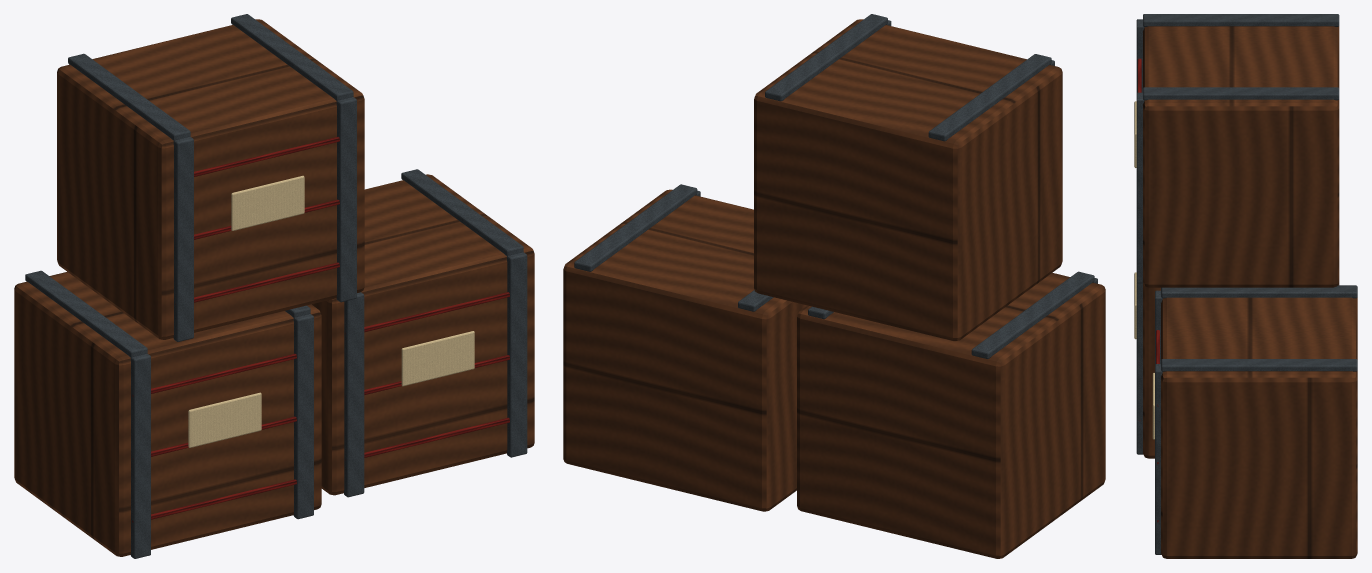
The model's file is supply_crates.glb.
3 views of the same model, side by side, from view 1: azimuth 30°, elevation 25°; view 2: azimuth 150°, elevation 25°; view 3: azimuth 270°, elevation 25° (orthographic). The views are drawn at different scales.
Visible parts, largest first — view 1: supply_crates_Walnut, supply_crates_Iron, supply_crates_Paper, supply_crates_Lacquer; view 2: supply_crates_Walnut, supply_crates_Iron; view 3: supply_crates_Walnut, supply_crates_Iron, supply_crates_Paper, supply_crates_Lacquer.
Part boxes in pixels (<box>): supply_crates_Walnut: <box>14,19,534,556</box>; supply_crates_Iron: <box>25,14,527,558</box>; supply_crates_Paper: <box>188,175,474,447</box>; supply_crates_Lacquer: <box>132,137,509,522</box>; supply_crates_Walnut: <box>563,19,1105,558</box>; supply_crates_Iron: <box>574,14,1097,359</box>; supply_crates_Walnut: <box>1143,26,1357,558</box>; supply_crates_Iron: <box>1136,14,1357,554</box>; supply_crates_Paper: <box>1134,101,1154,439</box>; supply_crates_Lacquer: <box>1137,58,1159,522</box>.
Bounding box in the file's own units: 2 × 1.83 × 0.977.
Materials: 4 (4 with a texture image).
